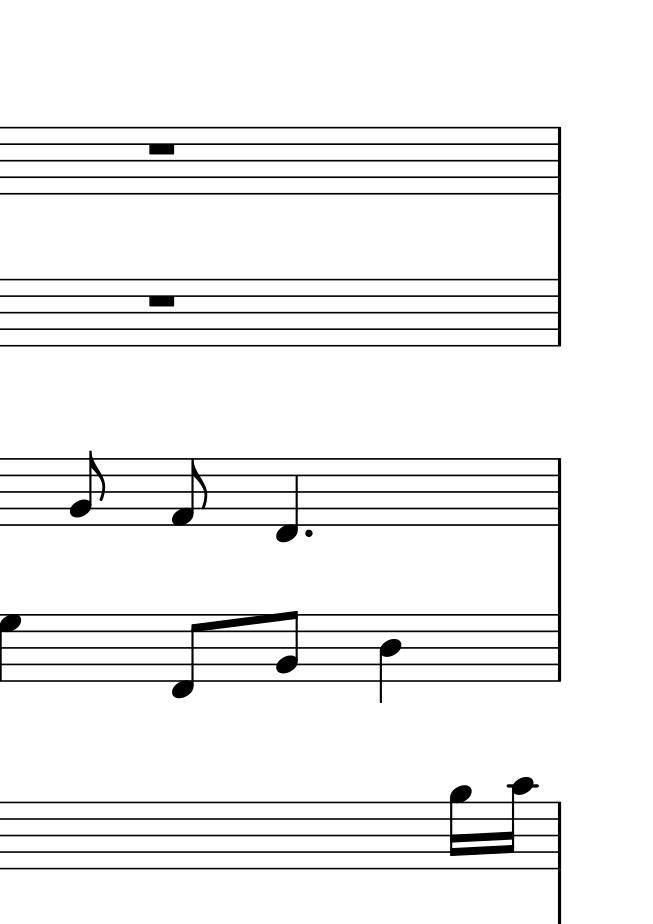16_10: (501, 777, 536, 872)
16_9: (447, 783, 471, 873)
4_-1: (273, 456, 300, 544)
4_4: (377, 613, 402, 704)
8_-1: (169, 612, 202, 699)
8_1: (169, 457, 210, 528)
8_2: (69, 449, 106, 527), (274, 609, 300, 683)
Rests1: (144, 139, 179, 158), (144, 291, 178, 310)
Single_barline: (551, 459, 567, 525), (551, 802, 567, 868), (551, 280, 567, 344), (551, 129, 567, 192), (551, 616, 567, 679)
dot: (302, 526, 315, 539)
